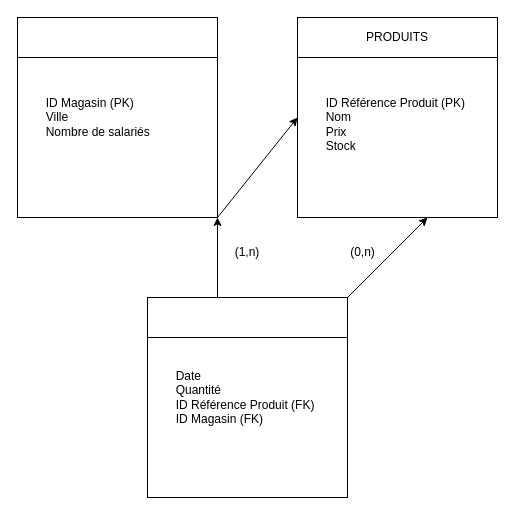
Some shapes in this 515 by 515 pixel diagram are drawn without their labels. The shapes that lost their labels are listed below. From the top down, each one's centre as x and y in pixels, then its label:
At (x=117, y=37): "MAGASINS".
At (x=247, y=317): "VENTES".
